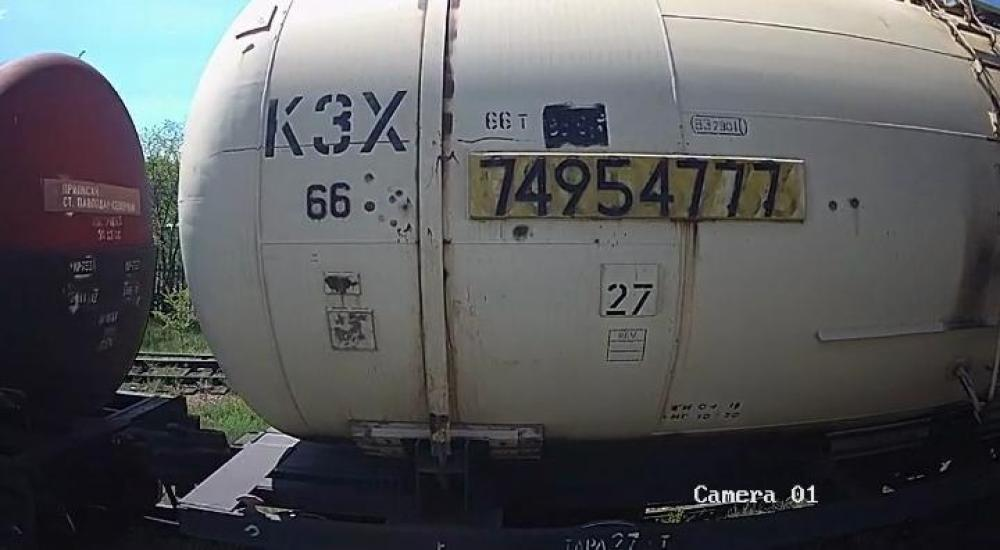Wagon-number: (471, 151, 806, 221)
